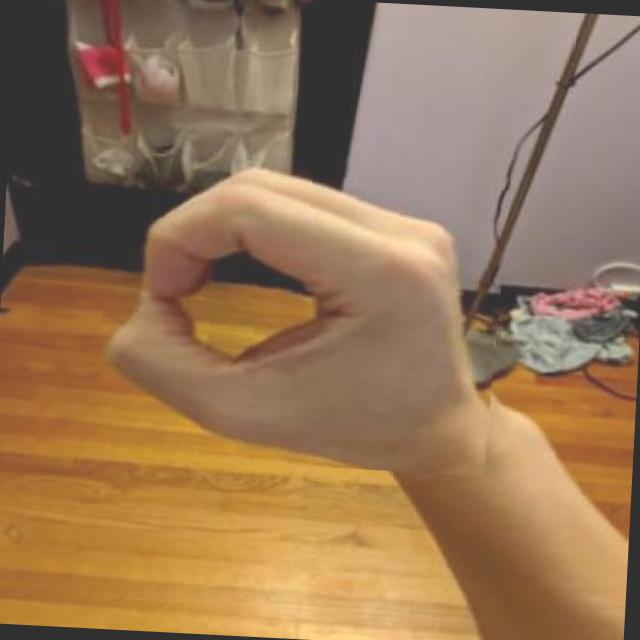O: (96, 147, 512, 476)
